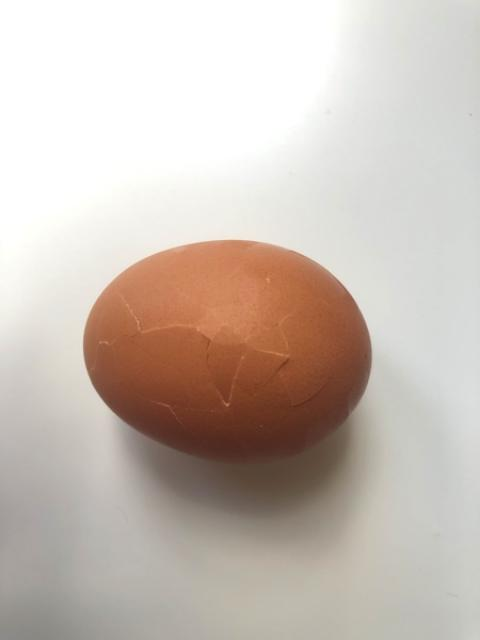Roto: (81, 237, 372, 464)
